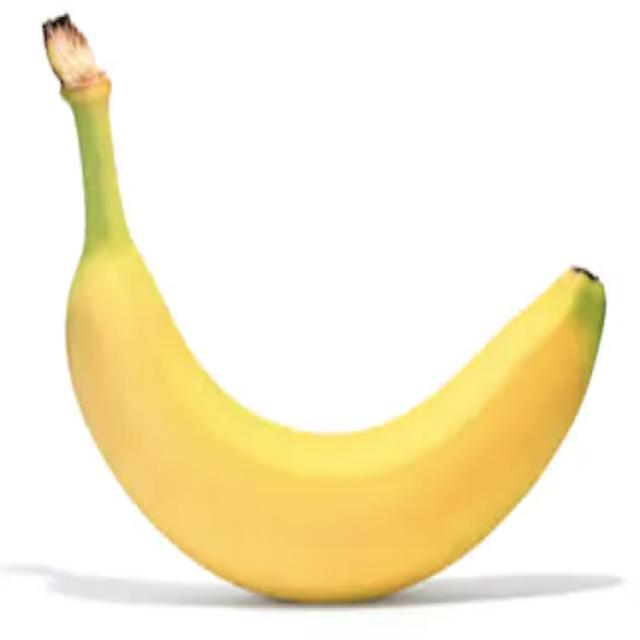fresh-banana: (40, 10, 608, 605)
